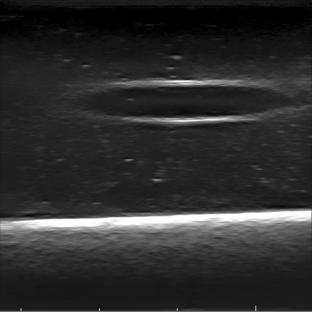vessel: (80, 78, 289, 125)
